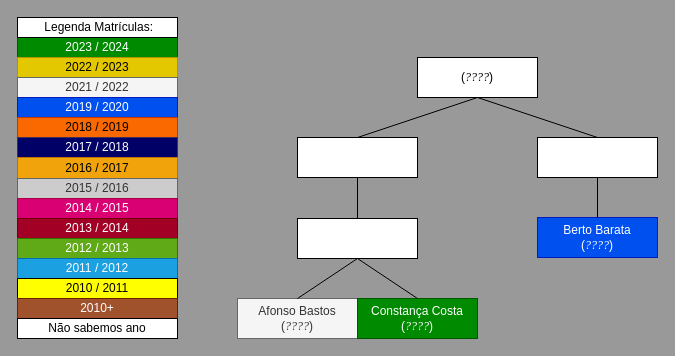
Image size: 675x356. Some labels were removed from this diagram. Each missing label, with the centre of its shape:
"Beatriz Soares ( ???? )" goes at (x=597, y=157).
"João Alves ( BVA )" goes at (x=357, y=238).
"Sofia Rodrigues ( ???? )" goes at (x=357, y=157).
